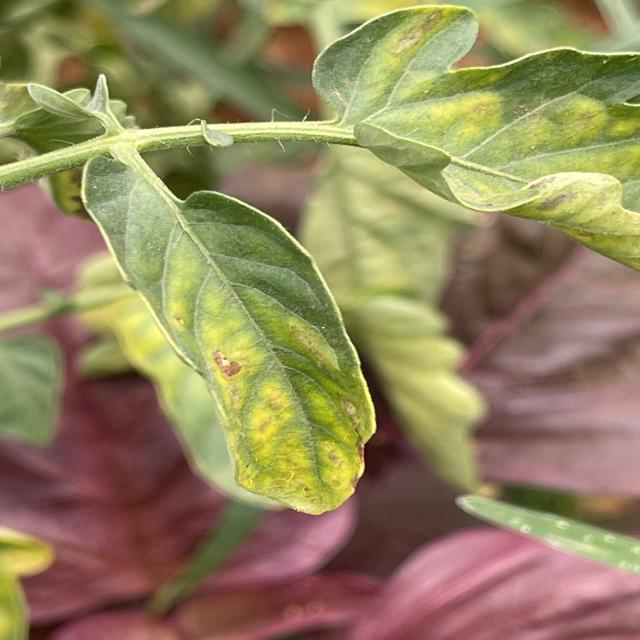tomato_early blight: (81, 148, 375, 515), (313, 5, 640, 268)
